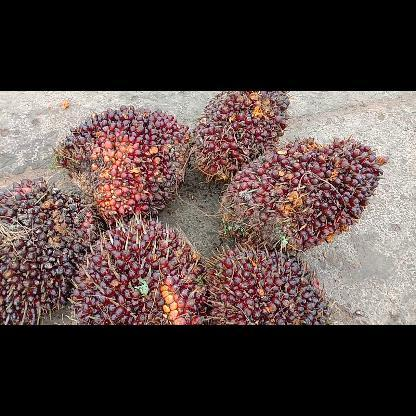Kurang masak: (218, 134, 392, 254), (52, 104, 194, 226), (66, 214, 210, 324), (0, 176, 105, 325), (208, 242, 335, 324), (192, 91, 290, 185)
